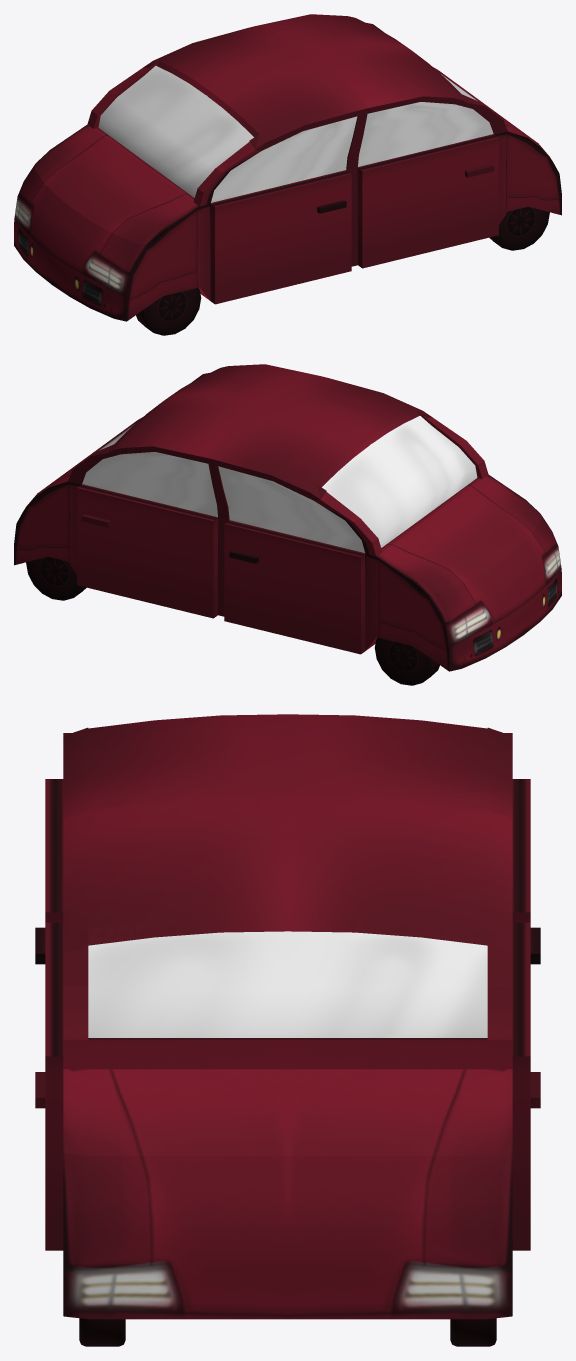
The model's file is Car.FBX.
3 renders of one model, top to bottom at view 1: azimuth 30°, elevation 25°; view 2: azimuth 150°, elevation 25°; view 3: azimuth 270°, elevation 25°, orthographic. The views are drawn at different scales.
Parts seen in each view (by area): view 1: Box203, Object011, Object012, Box206; view 2: Box203, Object014, Object013, Box206; view 3: Box203, Box206, Object012, Object013, Object011, Object014.
Boxes of the visible parts, x1,y1,x2,y2 form: Box203: (14,14,561,335); Object011: (210,116,357,304); Object012: (357,102,499,268); Box206: (98,66,477,197); Box203: (14,364,561,685); Object014: (218,466,365,654); Object013: (76,452,218,618); Box206: (98,416,477,547); Box203: (63,714,512,1346); Box206: (88,931,487,1037); Object012: (35,922,63,1250); Object013: (512,922,540,1250); Object011: (35,779,63,964); Object014: (512,779,540,964).
Size of the model in its own units: 140 by 57.49 by 67.37.
